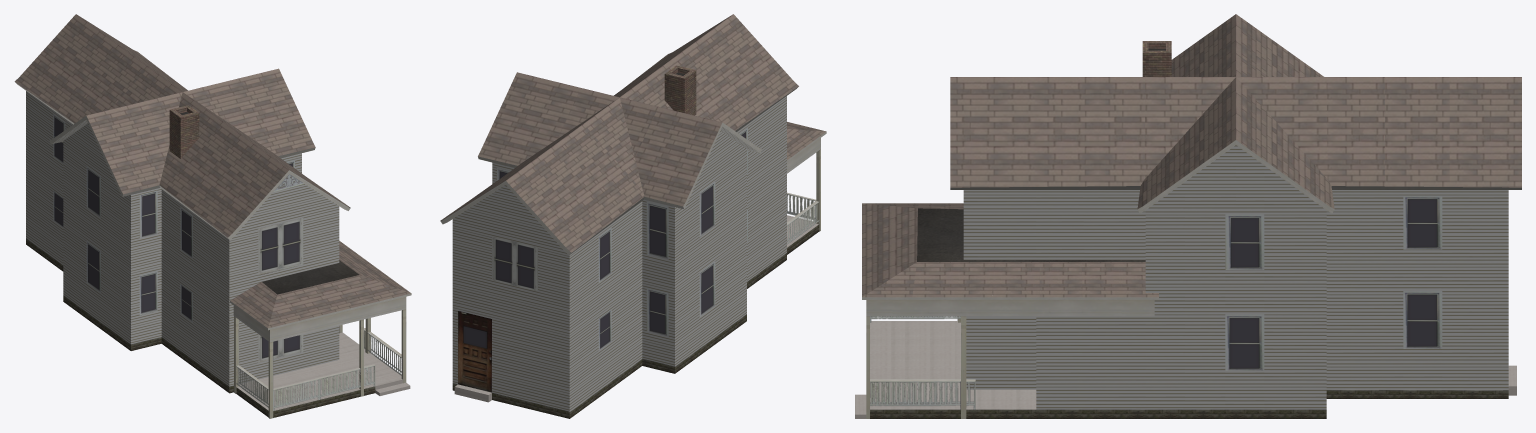
File: medium_midwestern_house_1.glb
3 renders of one model, left to right at view 1: azimuth 30°, elevation 25°; view 2: azimuth 150°, elevation 25°; view 3: azimuth 270°, elevation 25°, orthographic. The views are drawn at different scales.
Visible parts, largest first — view 1: Object_2; view 2: Object_2; view 3: Object_2.
Boxes of the visible parts, x1,y1,x2,y2 form: Object_2: (14,14,411,418); Object_2: (440,14,826,418); Object_2: (855,14,1521,418).
Size of the model in its own units: 658 by 726 by 1473.
Materials: 1 (1 with a texture image).
